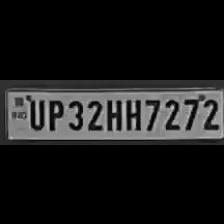2: (160, 95, 180, 131), (199, 94, 219, 130), (84, 96, 104, 130)
3: (65, 96, 83, 130)
7: (141, 95, 159, 131), (180, 94, 198, 130)
H: (104, 95, 122, 131), (123, 95, 141, 131)
P: (45, 96, 63, 130)
U: (26, 94, 44, 130)
